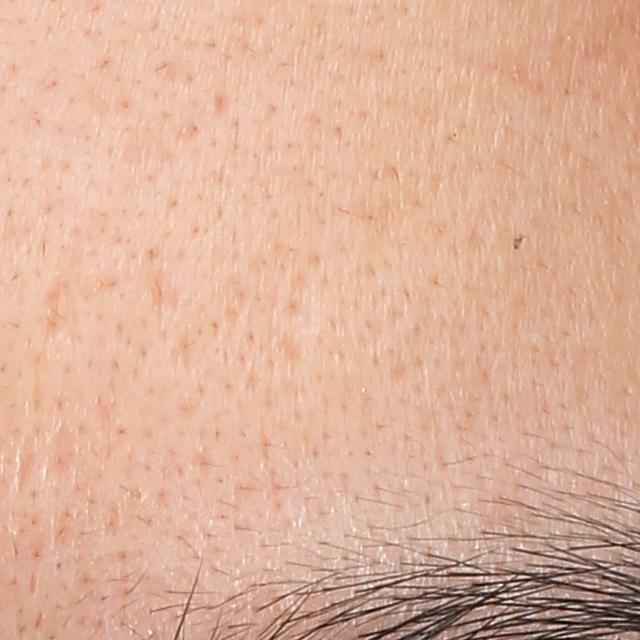atrophic_scar: (40, 278, 88, 351), (148, 270, 184, 320), (14, 436, 37, 494), (213, 92, 232, 119)
